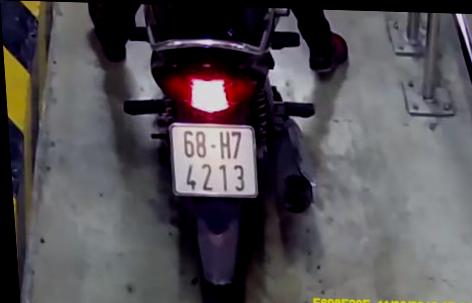License_Plate: (164, 120, 268, 207)
